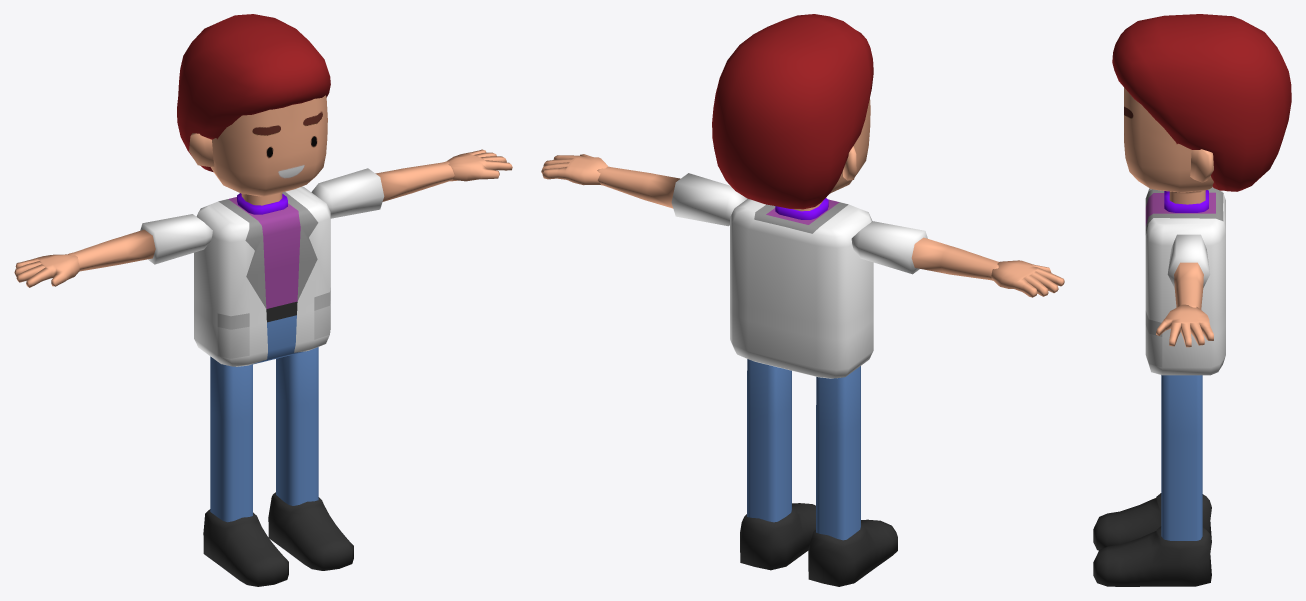
Rendered from NPC_White02_RedHair04.gltf.
The picture shows the model from 3 angles, left to right: view 1: azimuth 30°, elevation 25°; view 2: azimuth 150°, elevation 25°; view 3: azimuth 270°, elevation 25°; orthographic projection. The views are drawn at different scales.
Visible parts, largest first — view 1: NPC_Corpo_White2_RedHair.004; view 2: NPC_Corpo_White2_RedHair.004; view 3: NPC_Corpo_White2_RedHair.004.
Part boxes in pixels (x1=…): NPC_Corpo_White2_RedHair.004: x1=14, y1=14, x2=512, y2=586; NPC_Corpo_White2_RedHair.004: x1=541, y1=14, x2=1064, y2=586; NPC_Corpo_White2_RedHair.004: x1=1093, y1=14, x2=1291, y2=586.
Size of the model in its own units: 2.31 by 2.3 by 0.7742.
Materials: 1 (1 with a texture image).
